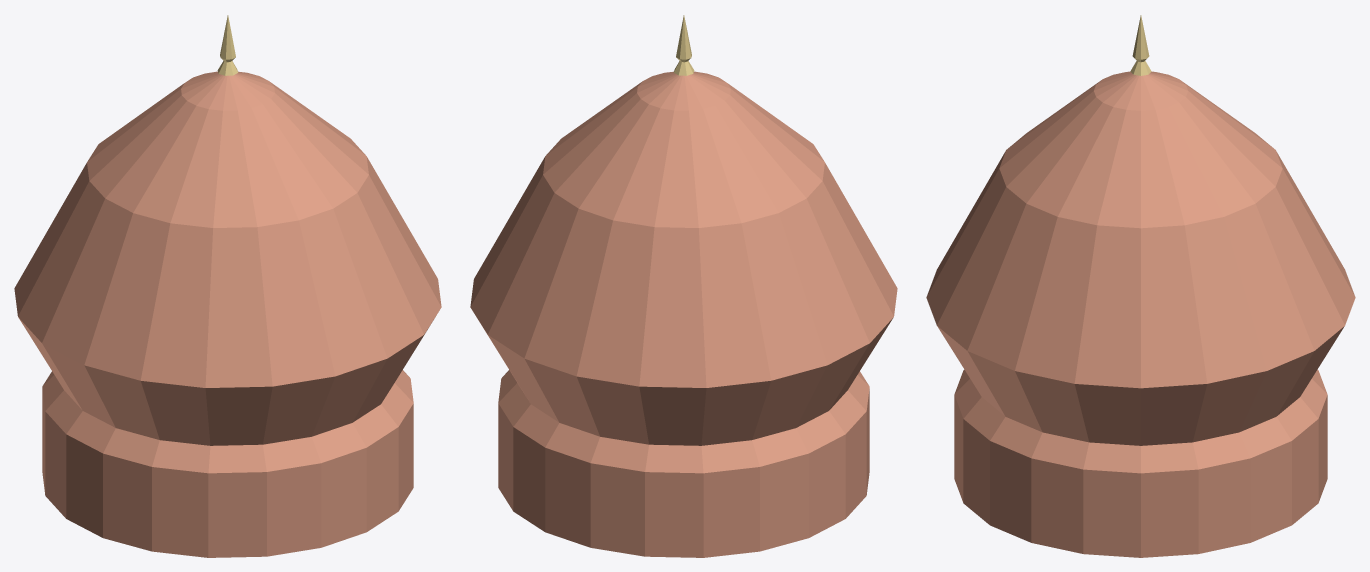
The model's file is kit_dome_onion.glb.
The picture shows the model from 3 angles, left to right: view 1: azimuth 30°, elevation 25°; view 2: azimuth 150°, elevation 25°; view 3: azimuth 270°, elevation 25°; orthographic projection.
Visible parts, largest first — view 1: kit_dome_onion; view 2: kit_dome_onion; view 3: kit_dome_onion.
Boxes of the visible parts, x1=… form: kit_dome_onion: x1=14, y1=15, x2=441, y2=557; kit_dome_onion: x1=470, y1=15, x2=897, y2=557; kit_dome_onion: x1=926, y1=15, x2=1355, y2=557.
Size of the model in its own units: 4.6 by 5.5 by 4.6.
